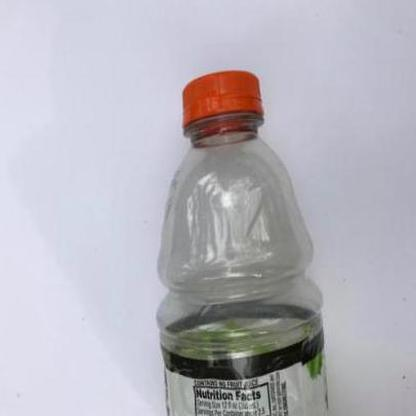plastic bottle: (157, 71, 330, 416)
